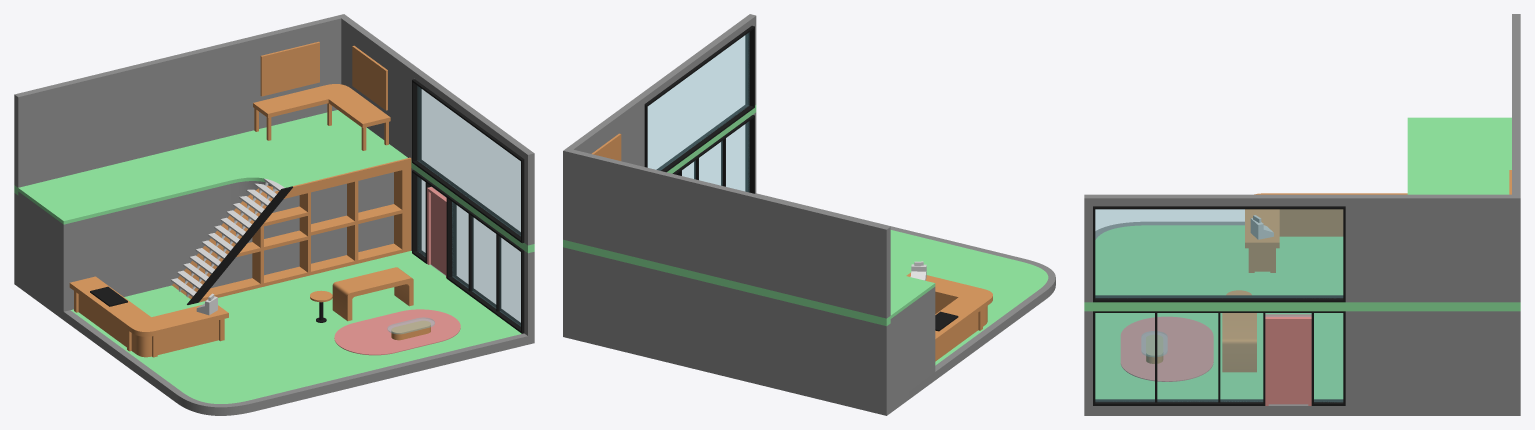
The model's file is hub_layout.FBX.
The picture shows the model from 3 angles, left to right: view 1: azimuth 30°, elevation 25°; view 2: azimuth 150°, elevation 25°; view 3: azimuth 270°, elevation 25°; orthographic projection. The views are drawn at different scales.
Parts seen in each view (by area): view 1: WallsFloor004, Box002, Box003, Object001, Glass, Box004, Shelfbackplate, Shelf, Box009, Cylinder005, StraightStair001, Box005 (+12 smaller); view 2: WallsFloor004, WallsFloor1, Box002, Glass, Object001, Box004, Floor2, Box009, Box003, Box008; view 3: Glass, Box002, WallsFloor004, WallsFloor1, Box003, Box004, Cylinder005, Floor2, Door, Box009, Box013, Cylinder001 (+1 smaller).
Part boxes in pixels (box(x1,y1,x2,y2)): WallsFloor004: box(14, 14, 534, 245); Box002: box(14, 251, 534, 415); Box003: box(15, 110, 407, 224); Object001: box(18, 181, 272, 311); Glass: box(417, 86, 520, 326); Box004: box(412, 79, 524, 333); Shelfbackplate: box(211, 172, 393, 287); Shelf: box(199, 181, 402, 302); Box009: box(69, 276, 228, 357); Cylinder005: box(334, 309, 460, 355); StraightStair001: box(171, 178, 284, 297); Box005: box(253, 84, 390, 127); WallsFloor004: box(563, 14, 890, 318); WallsFloor1: box(563, 112, 890, 407); Box002: box(563, 193, 1055, 415); Glass: box(648, 33, 749, 191); Object001: box(890, 287, 935, 404); Box004: box(644, 26, 754, 193); Floor2: box(563, 105, 890, 326); Box009: box(906, 272, 992, 361); Box003: box(564, 243, 935, 321); Box008: box(591, 133, 621, 160); Glass: box(1095, 209, 1342, 401); Box002: box(1084, 221, 1520, 415); WallsFloor004: box(1084, 14, 1520, 302); WallsFloor1: box(1084, 311, 1520, 405); Box003: box(1354, 117, 1520, 306); Box004: box(1093, 206, 1345, 405); Cylinder005: box(1120, 316, 1213, 381); Floor2: box(1084, 302, 1520, 311); Door: box(1265, 314, 1311, 405); Box009: box(1245, 193, 1407, 271); Box013: box(1222, 313, 1256, 372); Cylinder001: box(1141, 331, 1167, 356).
Size of the model in its own units: 1000 by 1000 by 550.
